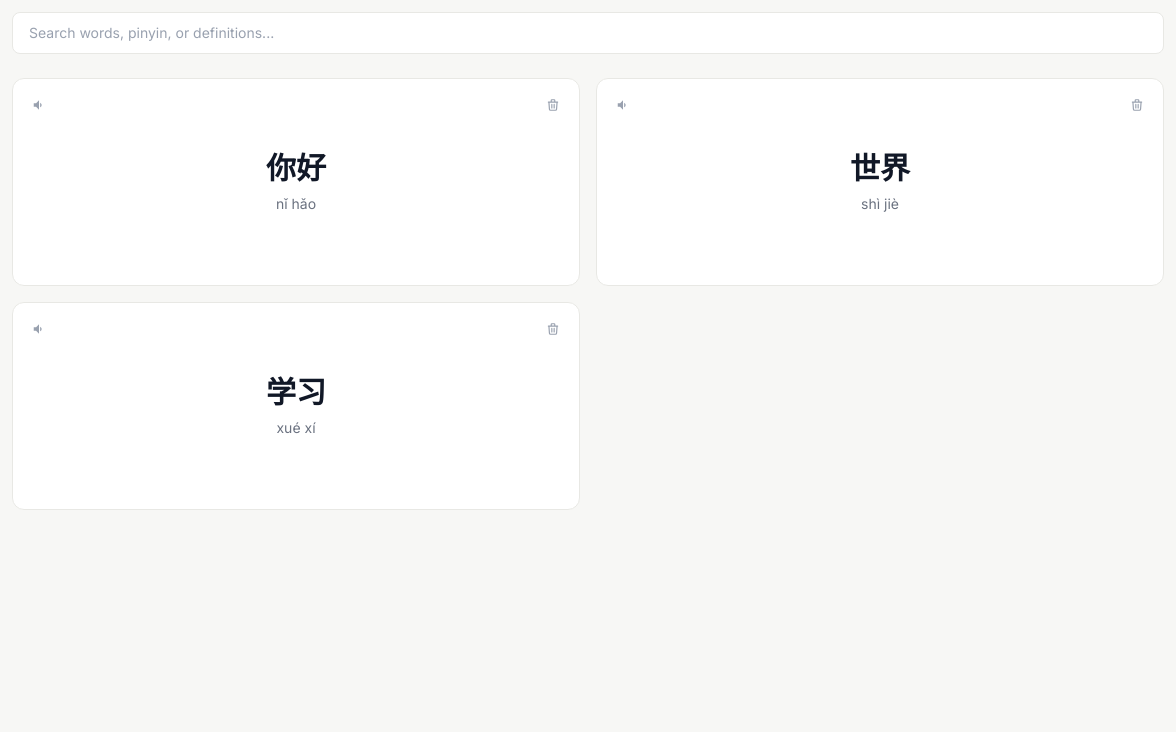
Test: FlashcardBrowse › search filters by pinyin (case-insensitive)
The image size is (1176, 732).
// Use lowercase pinyin that matches (diacritics must match too)
Type "shì" into the field with placeholder "Search words, pinyin, or definitions..." at [588, 33], box 12,12 -> 1164,54
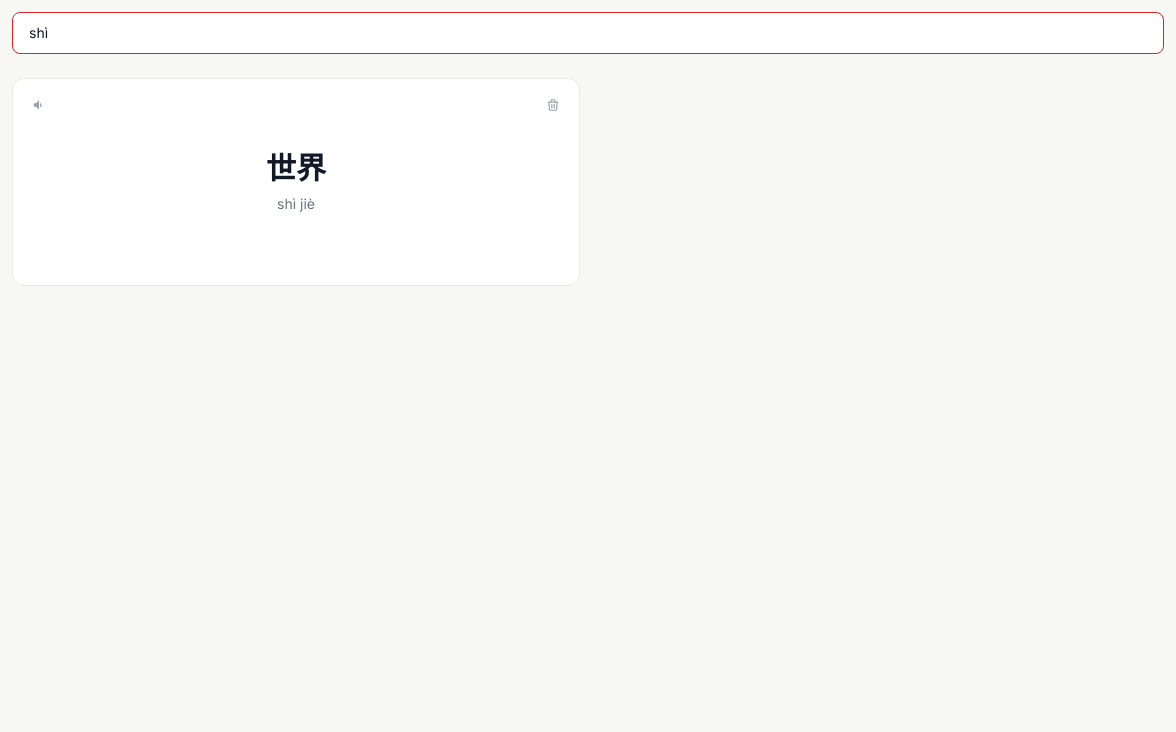
Expected: the text "世界" is shown, 266,150 -> 326,186
Now the text "你好" is gone
